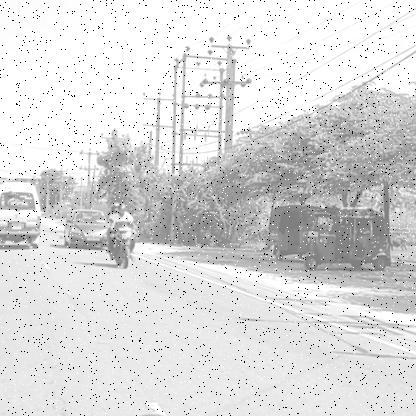motorcycle: (104, 221, 142, 270)
